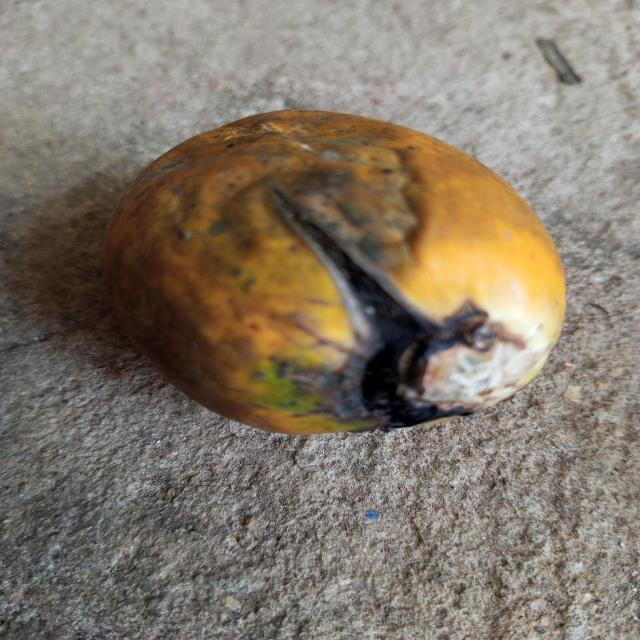damaged: (101, 109, 568, 438)
